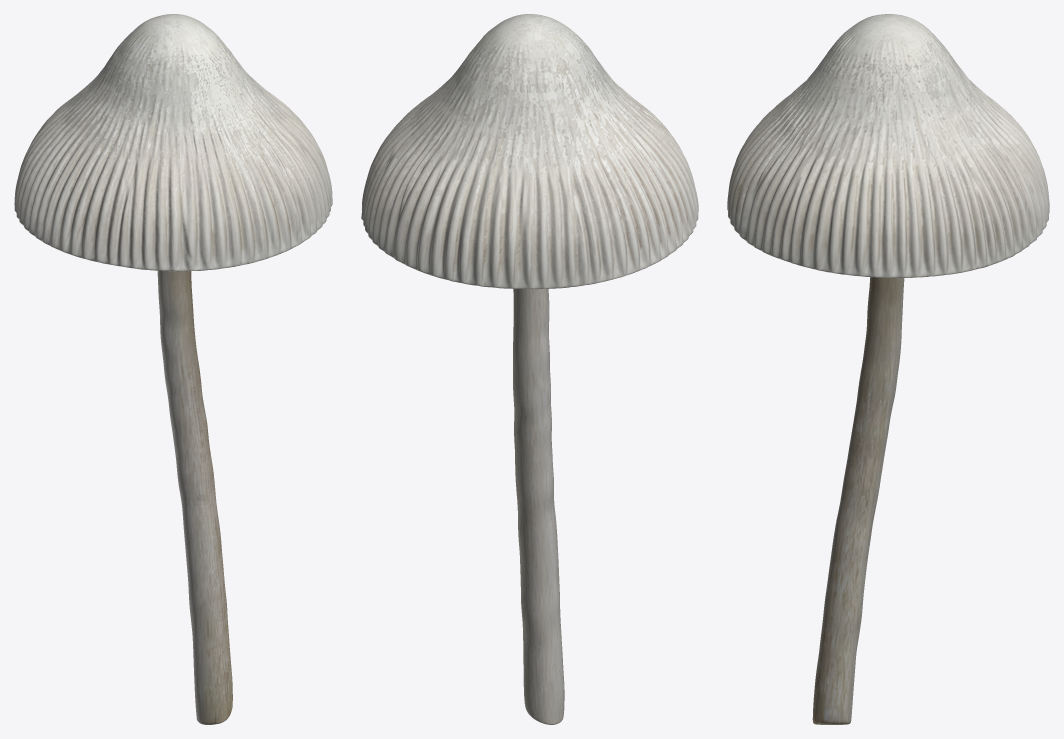
The model's file is BellMushroom.glb.
3 views of the same model, side by side, from view 1: azimuth 30°, elevation 25°; view 2: azimuth 150°, elevation 25°; view 3: azimuth 270°, elevation 25° (orthographic). The views are drawn at different scales.
Parts seen in each view (by area): view 1: tripo_node_1d83deaf-0035-4026-ba34-787ef10fd717; view 2: tripo_node_1d83deaf-0035-4026-ba34-787ef10fd717; view 3: tripo_node_1d83deaf-0035-4026-ba34-787ef10fd717.
Part boxes in pixels (<box>): tripo_node_1d83deaf-0035-4026-ba34-787ef10fd717: <box>14,14,332,724</box>; tripo_node_1d83deaf-0035-4026-ba34-787ef10fd717: <box>361,14,698,724</box>; tripo_node_1d83deaf-0035-4026-ba34-787ef10fd717: <box>727,14,1049,724</box>.
Size of the model in its own units: 0.4117 by 0.9795 by 0.4075.
1 material, 1 textured.
